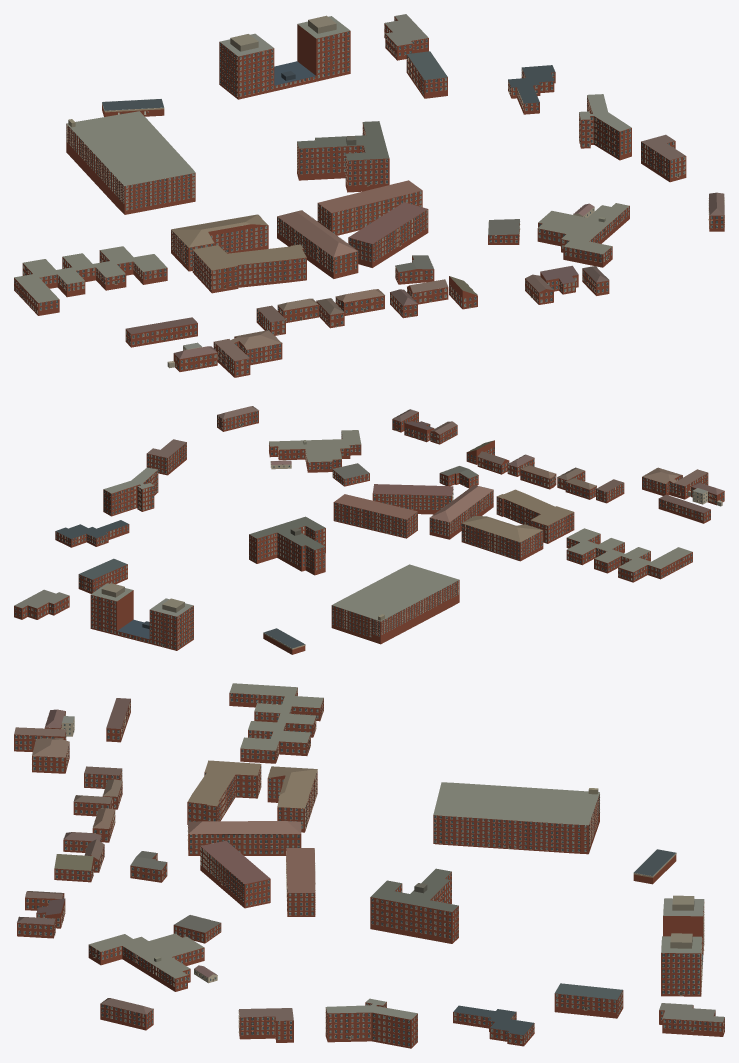
3 renders of one model, top to bottom at view 1: azimuth 30°, elevation 25°; view 2: azimuth 150°, elevation 25°; view 3: azimuth 270°, elevation 25°, orthographic. The views are drawn at different scales.
Parts seen in each view (by area): view 1: -4_-1_188498492_0; view 2: -4_-1_188498492_0; view 3: -4_-1_188498492_0.
Boxes of the visible parts, x1=… form: -4_-1_188498492_0: x1=14, y1=14, x2=724, y2=377; -4_-1_188498492_0: x1=14, y1=406, x2=724, y2=654; -4_-1_188498492_0: x1=14, y1=683, x2=724, y2=1048.
Bounding box in the file's own units: 566 × 49.3 × 526.
